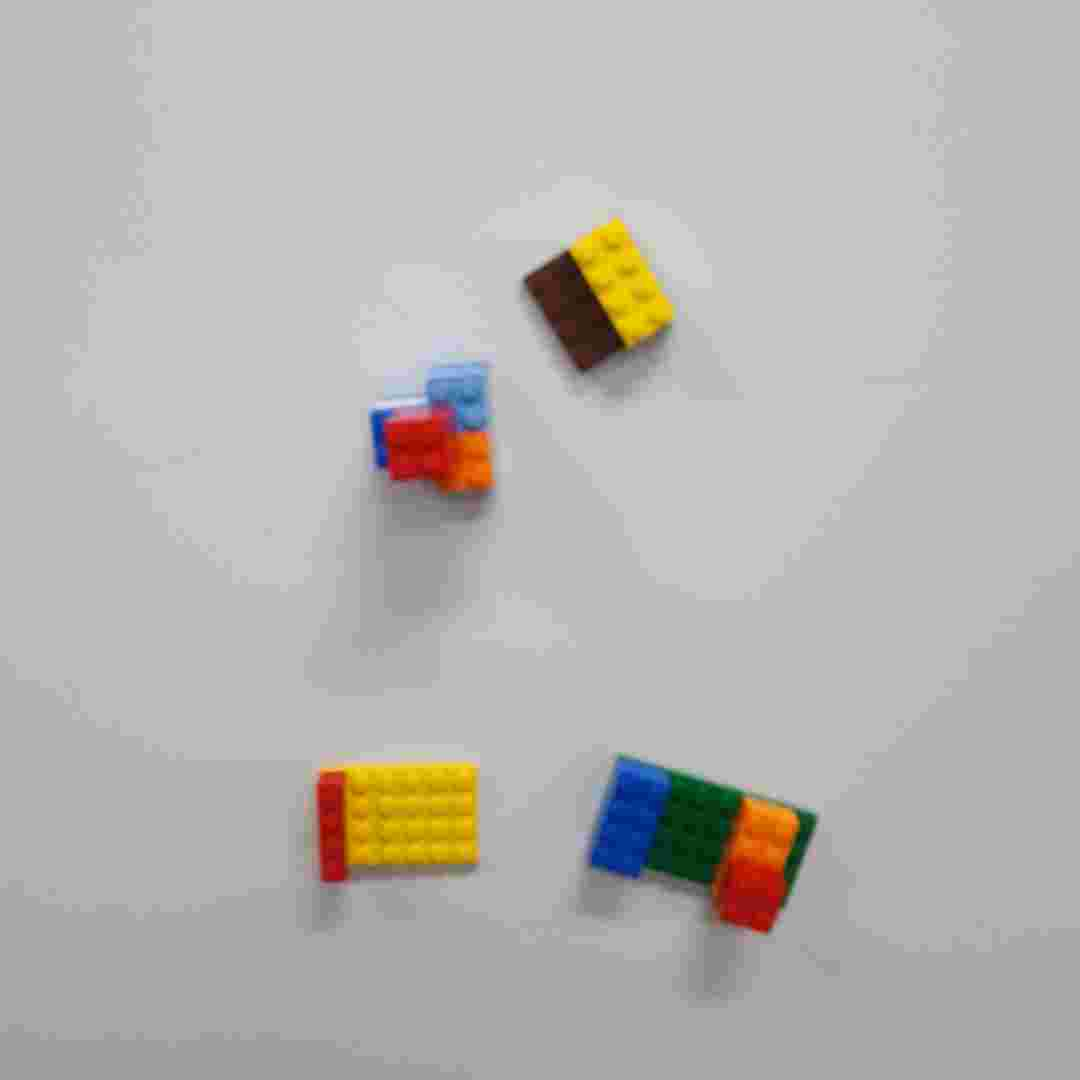LEGO: (587, 754, 821, 935), (520, 213, 680, 376), (309, 762, 486, 873), (366, 367, 499, 496)
